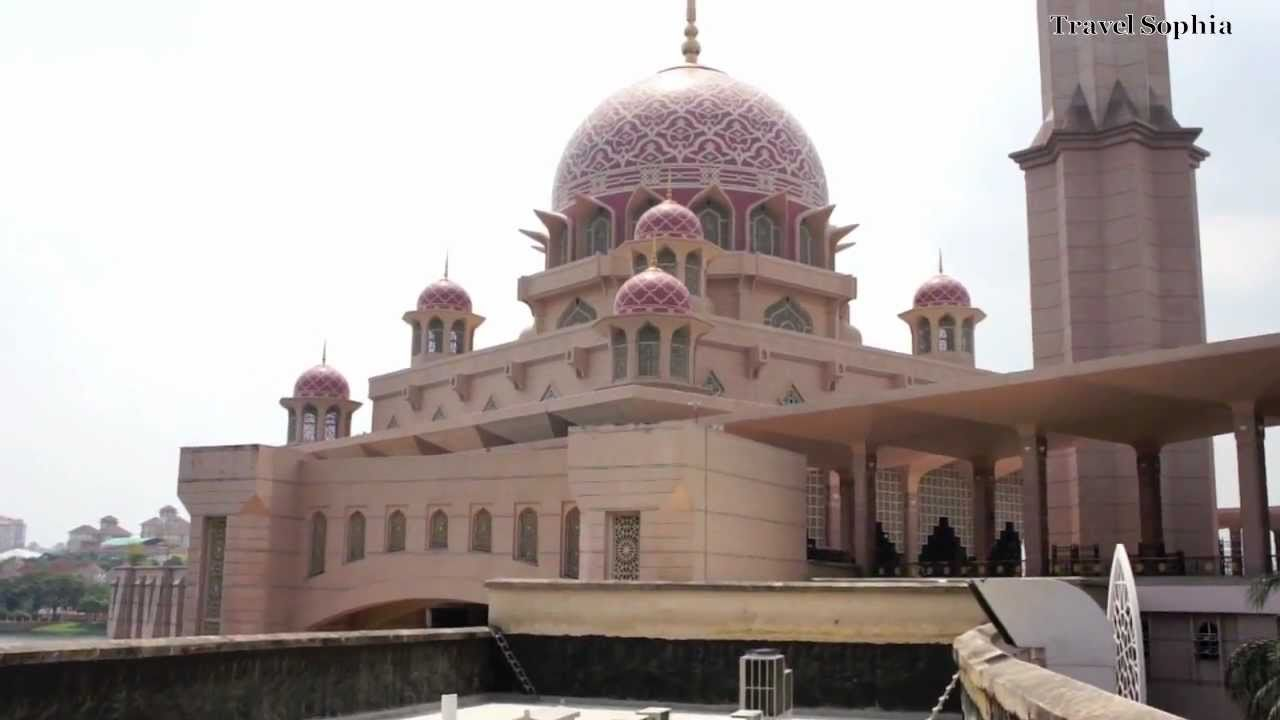Mosque: (230, 9, 845, 570)
